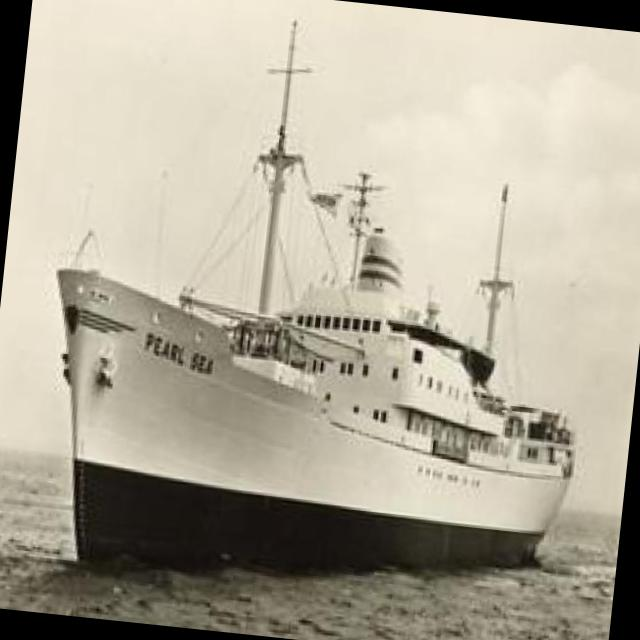boat: (0, 194, 619, 581)
